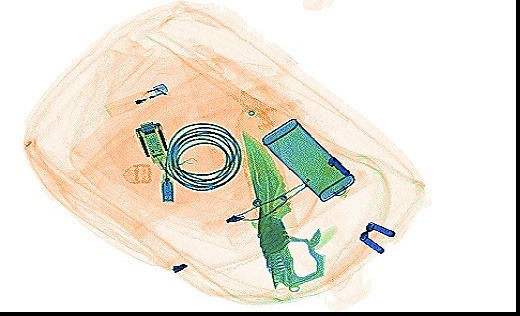knife: (239, 127, 325, 293)
lighter: (103, 81, 167, 116)
zippooil: (260, 117, 354, 201)
